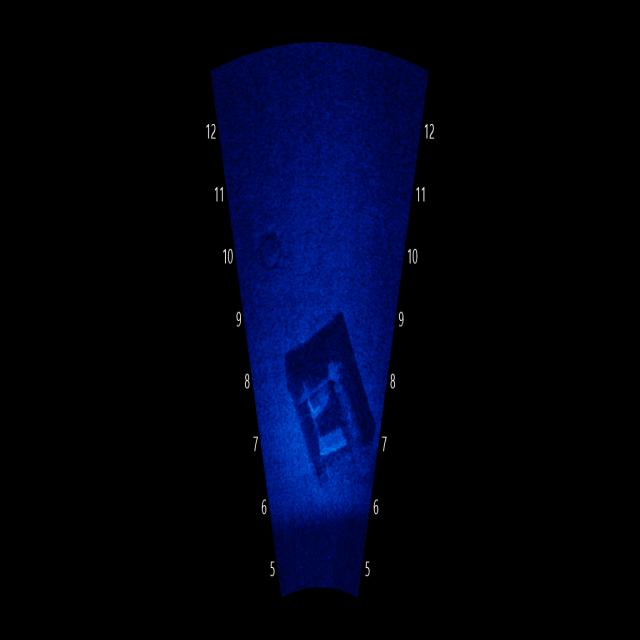square: (285, 313, 369, 486)
